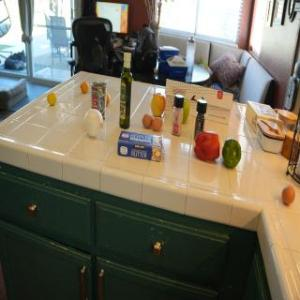bell_pepper: (195, 130, 222, 164), (222, 136, 244, 172)
egg: (280, 182, 296, 210), (152, 117, 164, 133), (143, 112, 151, 130)
onion: (79, 108, 104, 136)
